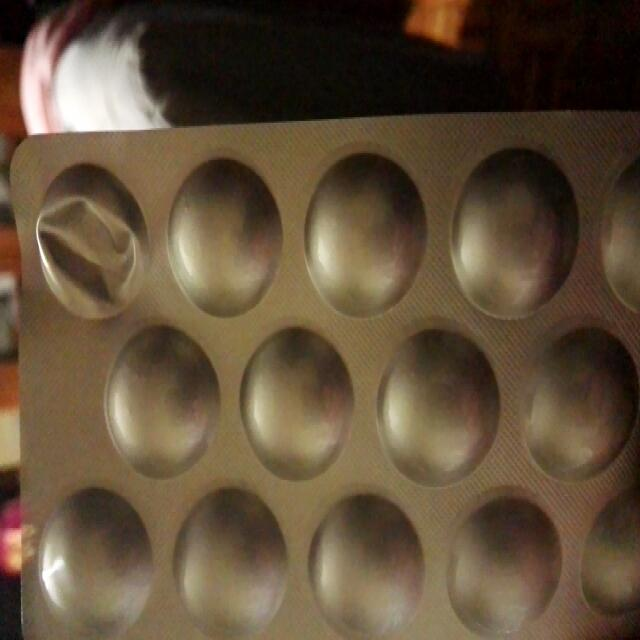Empty: (26, 162, 153, 320)
Pill: (445, 144, 587, 308), (293, 147, 433, 313), (368, 325, 509, 487), (158, 153, 284, 315), (27, 487, 159, 640), (171, 482, 295, 640), (98, 326, 228, 476), (518, 327, 640, 484), (236, 324, 355, 482), (308, 478, 424, 640), (440, 494, 565, 633), (578, 487, 640, 629), (603, 151, 640, 322)
